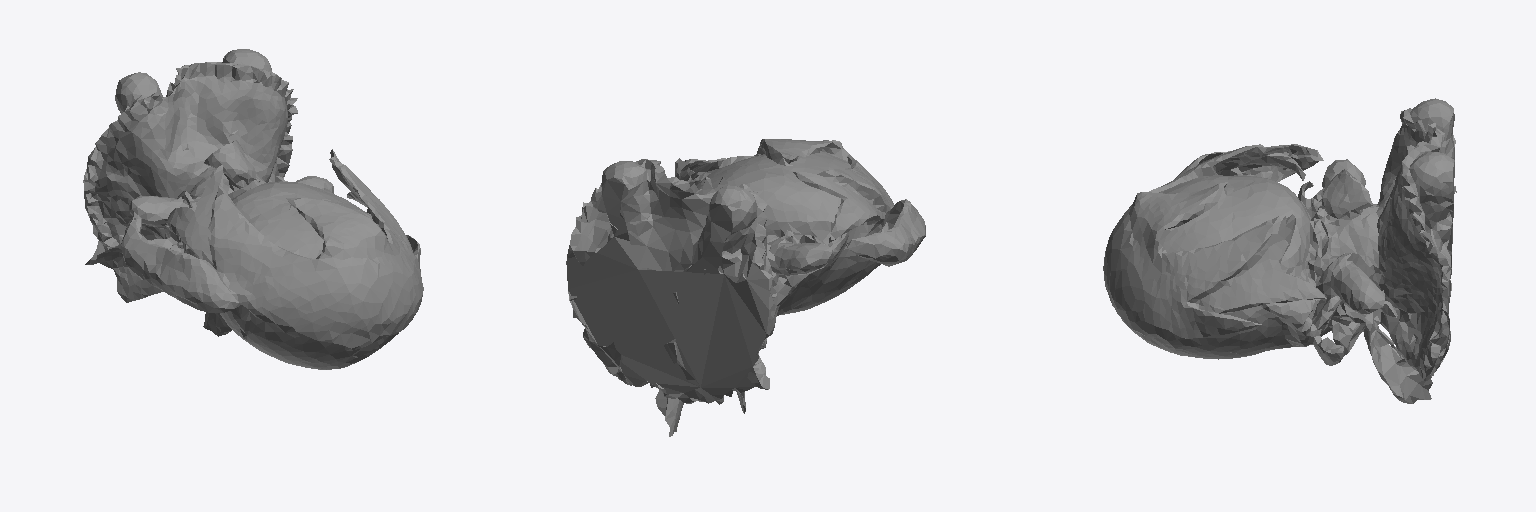
The model's file is flandre.obj.
3 views of the same model, side by side, from view 1: azimuth 30°, elevation 25°; view 2: azimuth 150°, elevation 25°; view 3: azimuth 270°, elevation 25° (orthographic).
Parts seen in each view (by area): view 1: flanfumo_low_Mesh; view 2: flanfumo_low_Mesh; view 3: flanfumo_low_Mesh.
Part boxes in pixels (x1,y1,x2,y2): flanfumo_low_Mesh: (83,49,423,369); flanfumo_low_Mesh: (566,139,925,436); flanfumo_low_Mesh: (1103,98,1456,403).
Bounding box in the file's own units: 23.58 × 22.48 × 26.73.